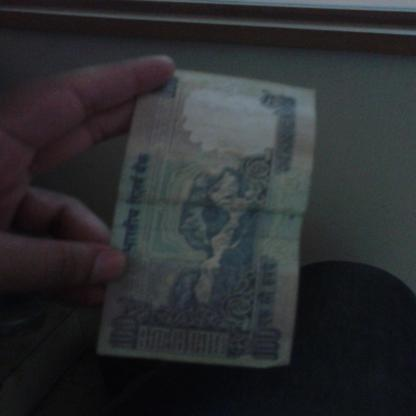Old100Back: (98, 68, 318, 369)
